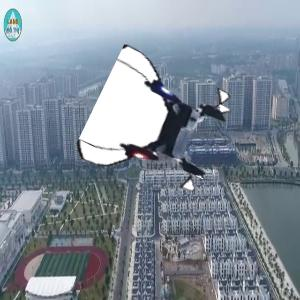drone: (94, 58, 230, 194)
